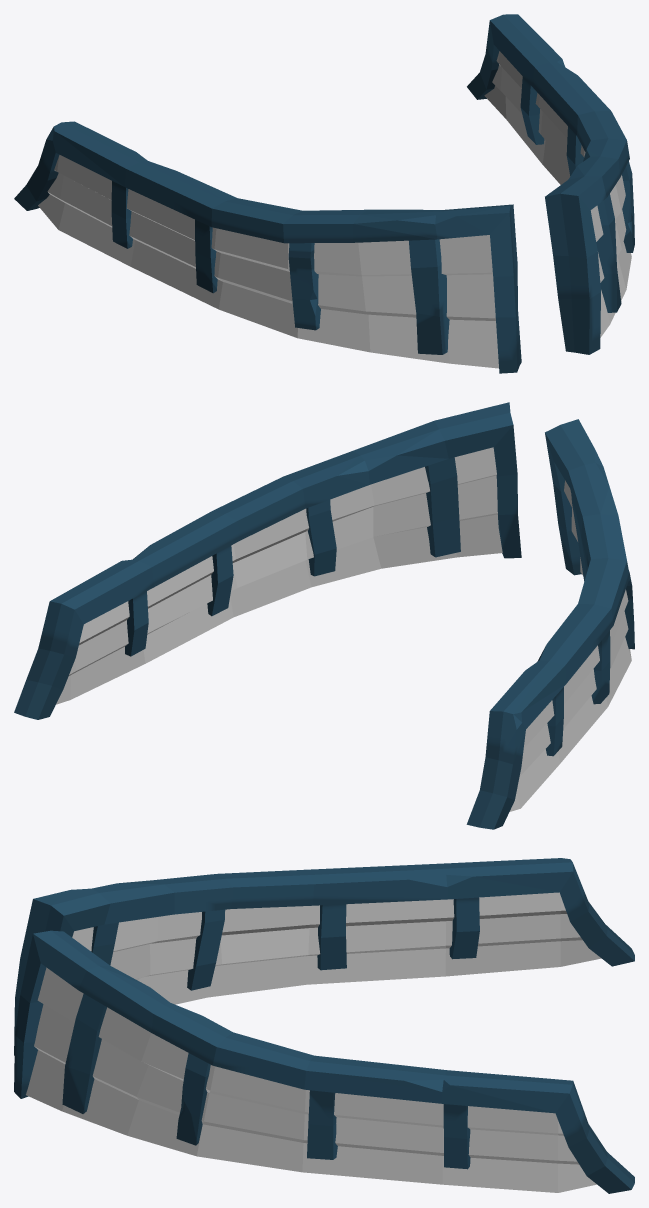
Rendered from SM_Veh_Ship_S_Front_03.fbx.
3 renders of one model, top to bottom at view 1: azimuth 30°, elevation 25°; view 2: azimuth 150°, elevation 25°; view 3: azimuth 270°, elevation 25°, orthographic. The views are drawn at different scales.
Visible parts, largest first — view 1: SM_Veh_Ship_S_Front_03; view 2: SM_Veh_Ship_S_Front_03; view 3: SM_Veh_Ship_S_Front_03.
Boxes of the visible parts, x1,y1,x2,y2 form: SM_Veh_Ship_S_Front_03: (14, 14, 634, 373); SM_Veh_Ship_S_Front_03: (14, 402, 634, 829); SM_Veh_Ship_S_Front_03: (14, 858, 634, 1193).
Size of the model in its own units: 510 by 157 by 552.
